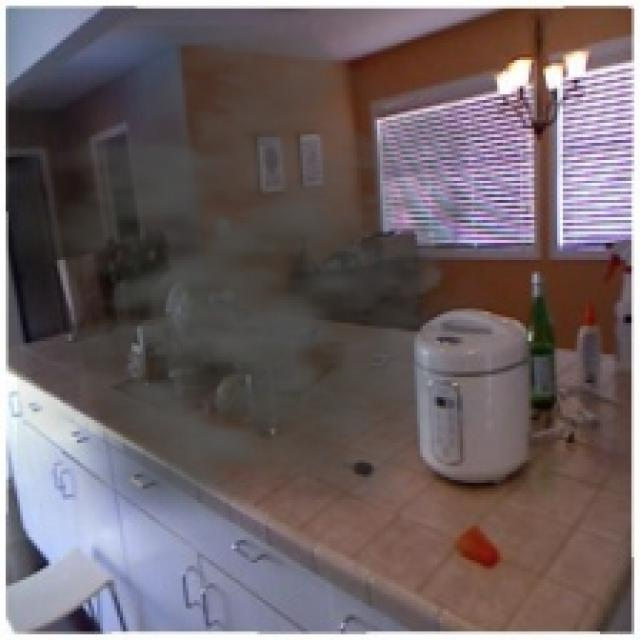smoke: (17, 26, 537, 546)
